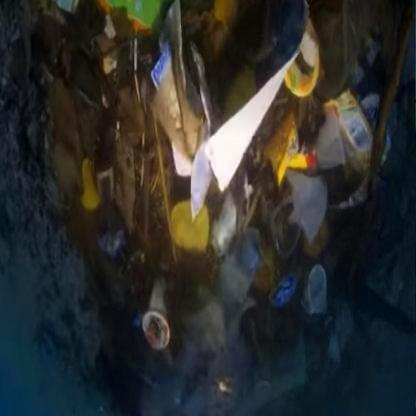plastic: (156, 58, 270, 194)
